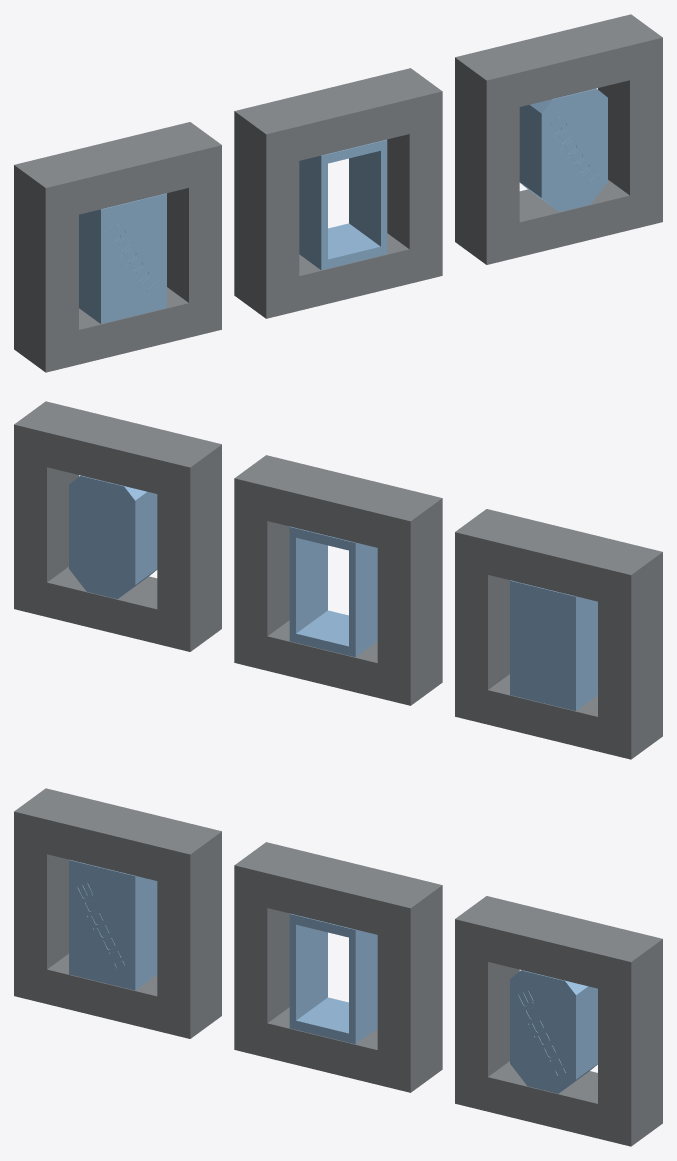
The model's file is supporttypen.glb.
The picture shows the model from 3 angles, top to bottom: view 1: azimuth 30°, elevation 25°; view 2: azimuth 150°, elevation 25°; view 3: azimuth 330°, elevation 25°; orthographic projection.
Visible parts, largest first — view 1: _label_Twist-Out, _label_Crushable, _label_Basic, Normal_Support, Chamfered_Support, Crush_Support; view 2: _label_Twist-Out, _label_Crushable, _label_Basic, Normal_Support, Chamfered_Support, Crush_Support; view 3: _label_Twist-Out, _label_Crushable, _label_Basic, Normal_Support, Chamfered_Support, Crush_Support.
Part boxes in pixels (left/top/right/bottom): _label_Twist-Out: left=455, top=14, right=662, bottom=264; _label_Crushable: left=234, top=68, right=442, bottom=318; _label_Basic: left=14, top=122, right=221, bottom=372; Normal_Support: left=79, top=193, right=166, bottom=323; Chamfered_Support: left=519, top=88, right=607, bottom=212; Crush_Support: left=299, top=139, right=387, bottom=270; _label_Twist-Out: left=14, top=401, right=221, bottom=651; _label_Crushable: left=234, top=455, right=442, bottom=705; _label_Basic: left=455, top=509, right=662, bottom=759; Normal_Support: left=510, top=580, right=597, bottom=710; Chamfered_Support: left=69, top=475, right=157, bottom=599; Crush_Support: left=289, top=526, right=377, bottom=657; _label_Twist-Out: left=455, top=896, right=662, bottom=1146; _label_Crushable: left=234, top=842, right=442, bottom=1092; _label_Basic: left=14, top=788, right=221, bottom=1038; Normal_Support: left=69, top=859, right=157, bottom=990; Chamfered_Support: left=510, top=970, right=597, bottom=1093; Crush_Support: left=289, top=913, right=377, bottom=1044.
Size of the model in its own units: 0.28 by 0.08 by 0.025.
